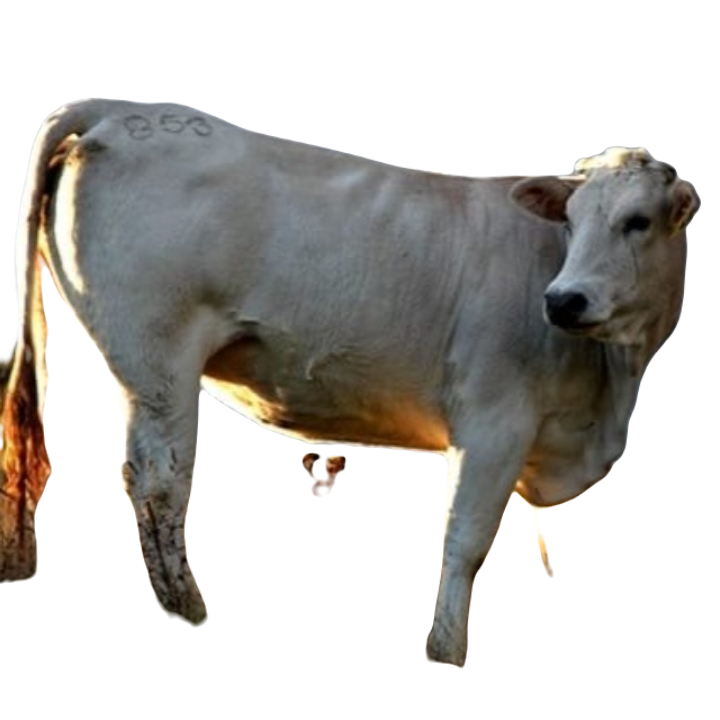Cow: (13, 96, 701, 666)
